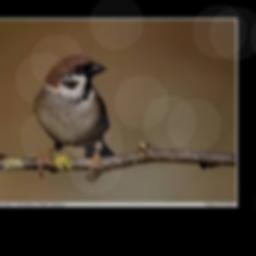Sparrow: (34, 54, 116, 179)
